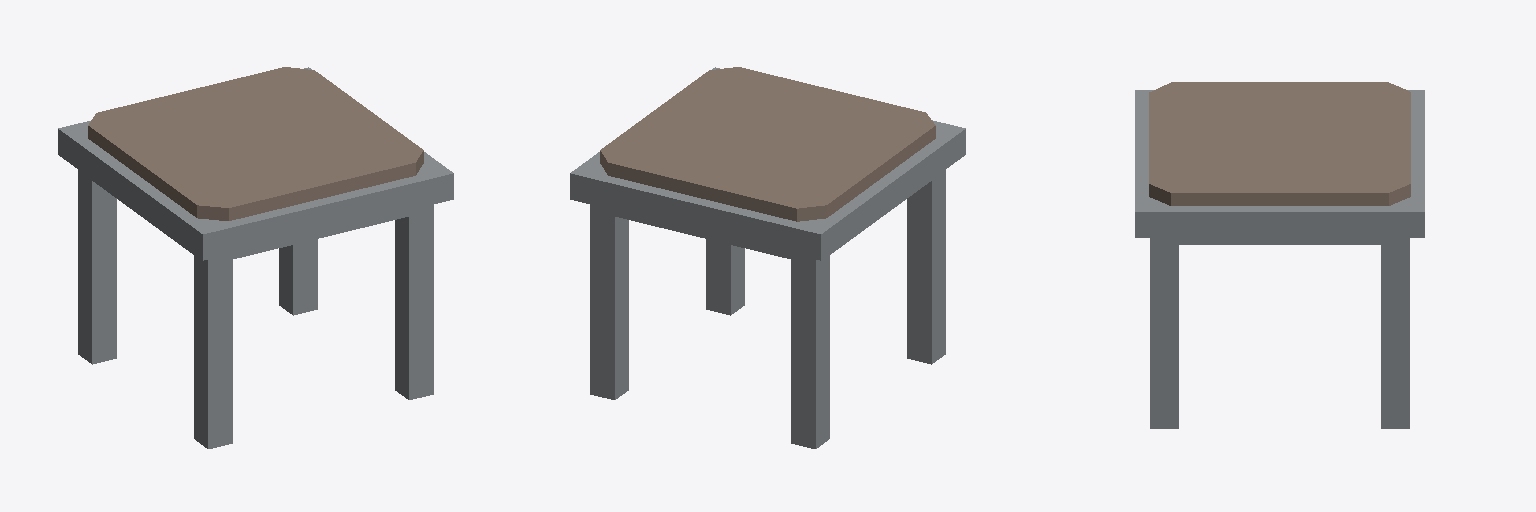
The model's file is LowChair.obj.
3 renders of one model, left to right at view 1: azimuth 30°, elevation 25°; view 2: azimuth 150°, elevation 25°; view 3: azimuth 270°, elevation 25°, orthographic.
Visible parts, largest first — view 1: Mesh1 Model; view 2: Mesh1 Model; view 3: Mesh1 Model.
Part boxes in pixels (left/top/right/bottom): Mesh1 Model: left=58, top=67, right=453, bottom=448; Mesh1 Model: left=570, top=67, right=965, bottom=448; Mesh1 Model: left=1135, top=82, right=1424, bottom=428.
Size of the model in its own units: 2 by 1.8 by 2.